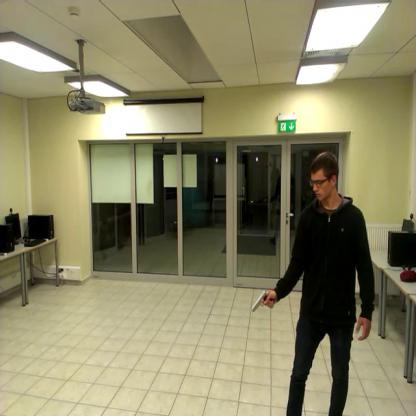Pistol: (250, 275, 280, 321)
